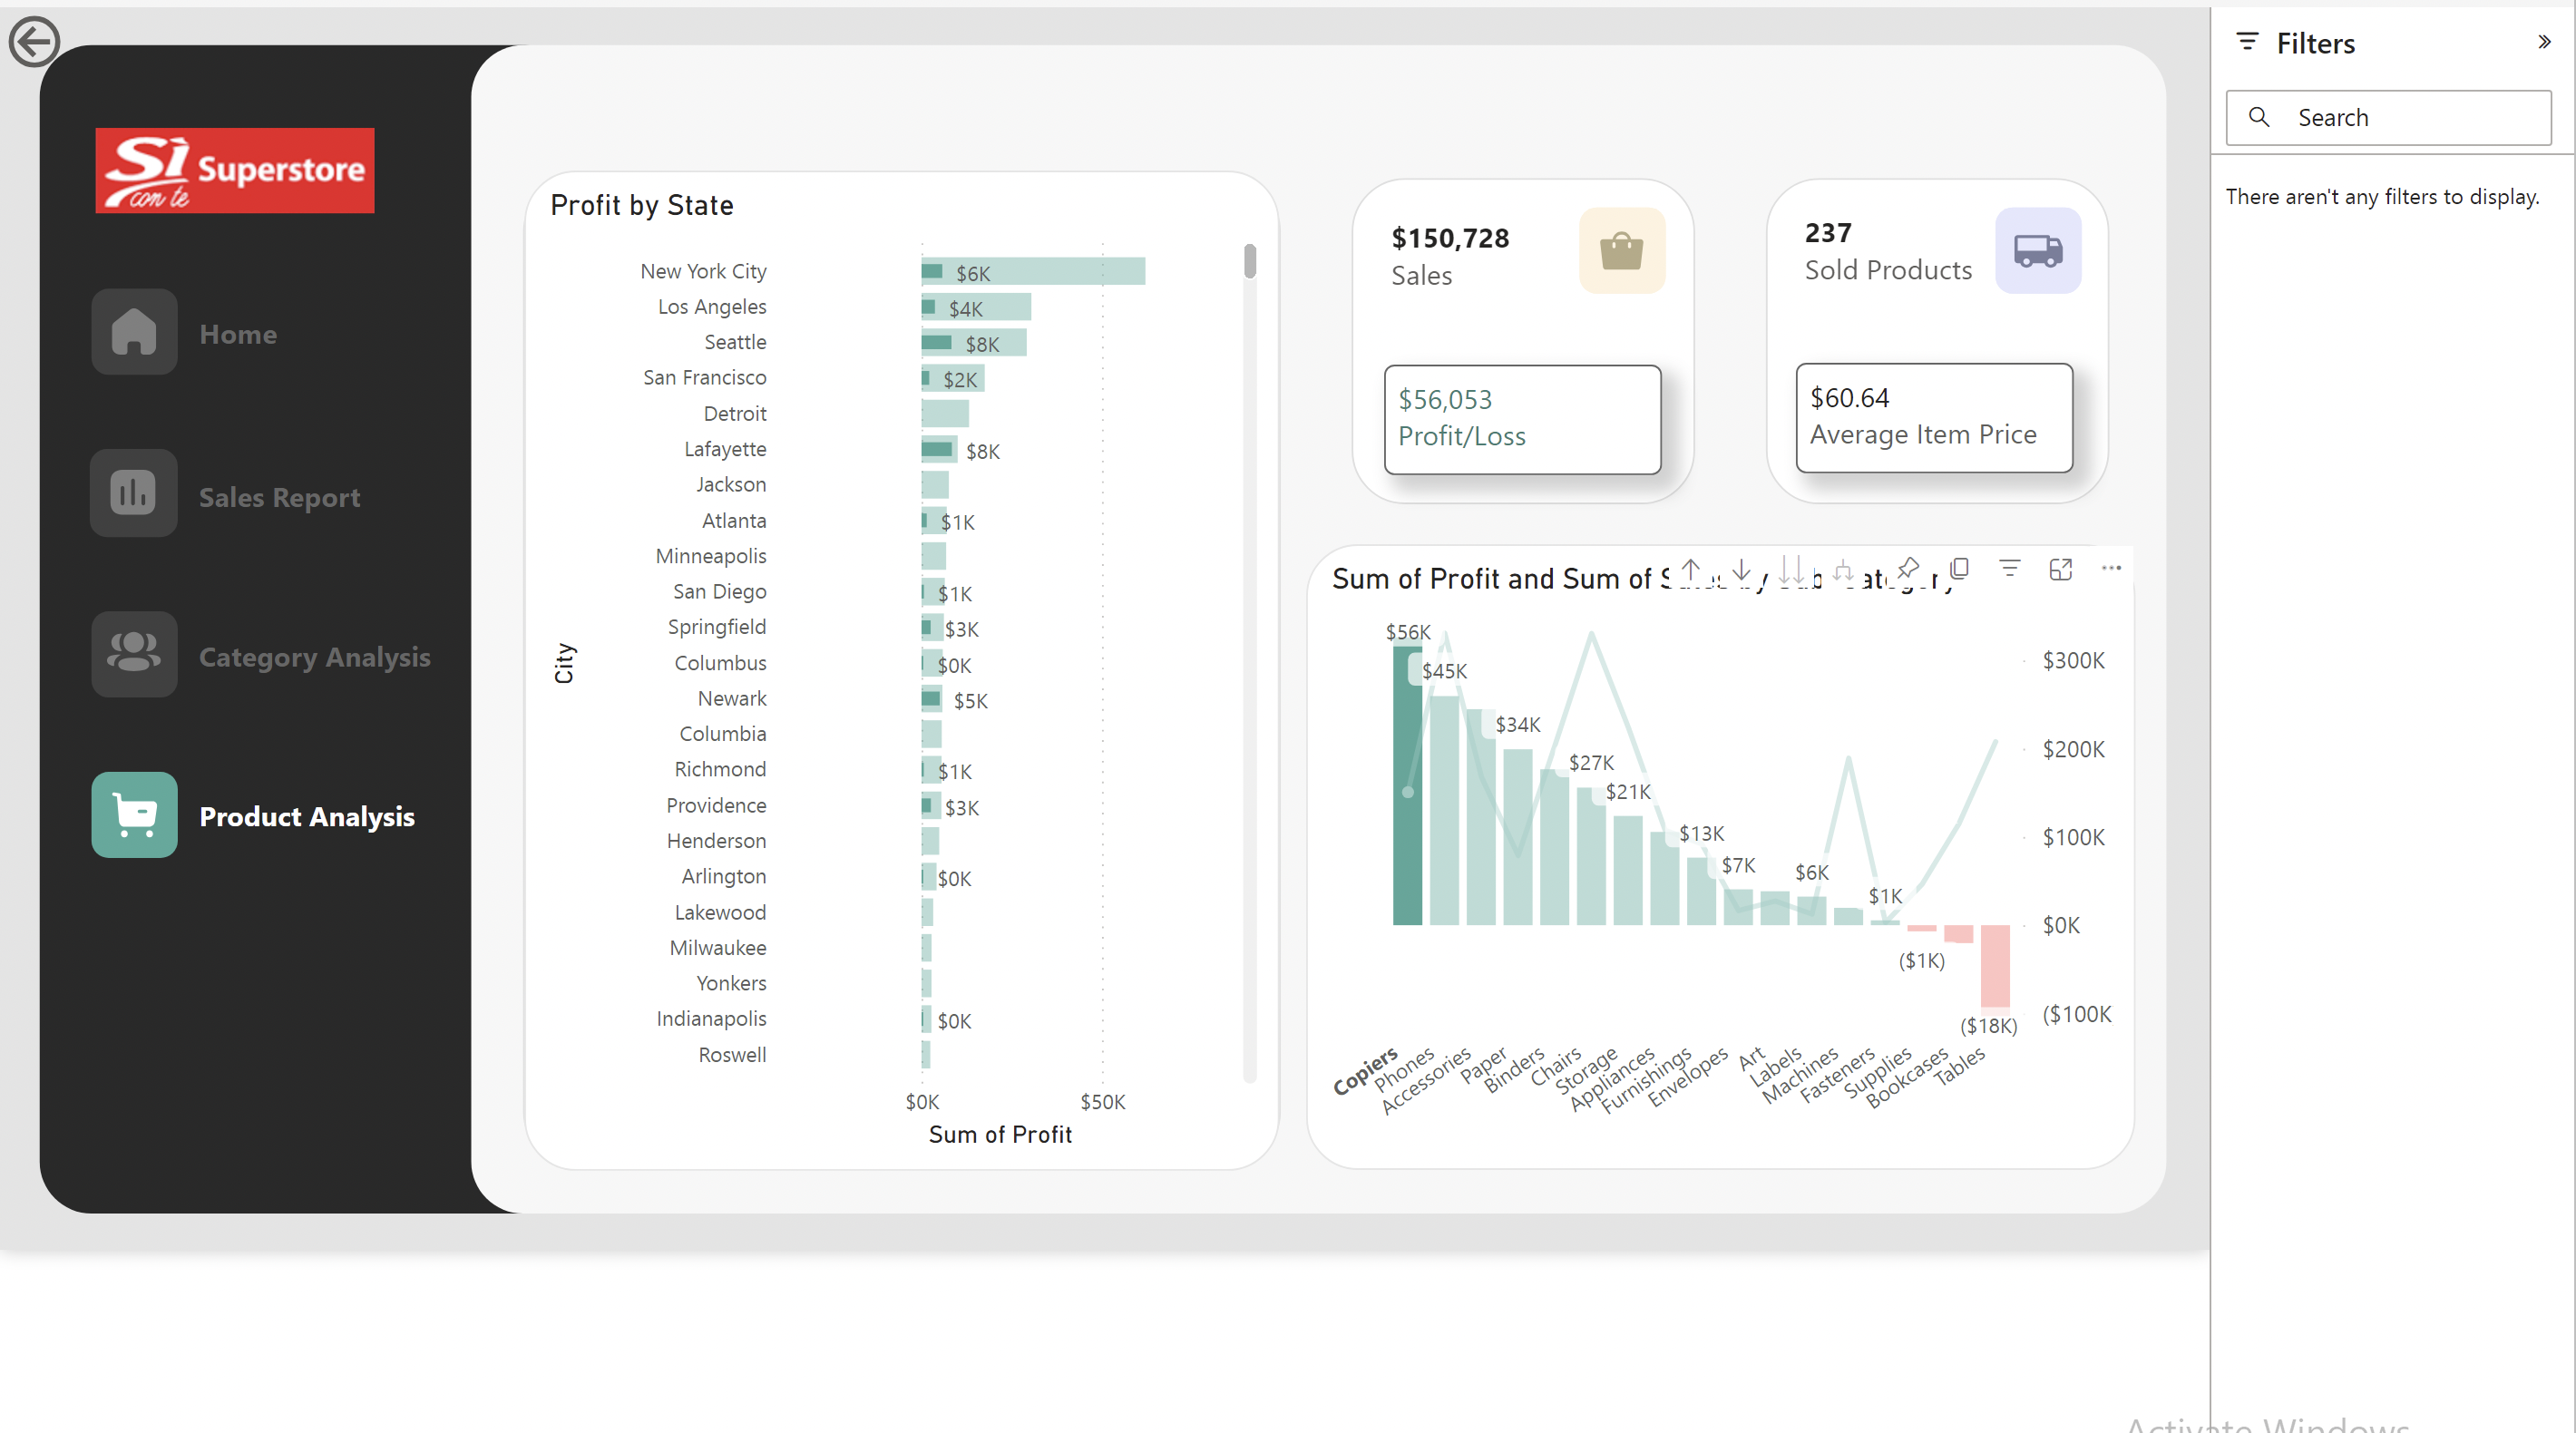

What the dashboard file says about the page in this screenshot:
{"tool":"powerbi","page":{"name":"Products Analysis","canvas":[1280,720],"ordinal":3},"visuals":[{"type":"group","id":"g1","title":"Group 1","box":[303.4,94.6,933.6,579.6],"z":0},{"type":"clusteredBarChart","title":"Profit by State","fields":{"Y":["Sum(SalesFact.Profit)"],"Category":["LocationDim.Country Hierarchy.City","LocationDim.Country Hierarchy.Postal Code"]},"box":[303.4,94.6,437.3,579.6],"z":0,"group":"g1"},{"type":"multiRowCard","fields":{"Values":["Sum(SalesFact.Quantity)"]},"box":[1040.8,113,136.8,52.5],"z":0,"group":"g3"},{"type":"multiRowCard","fields":{"Values":["Sum(SalesFact.Sales)"]},"box":[800.8,116.3,136.9,52.5],"z":0,"group":"g2"},{"type":"actionButton","title":"product","box":[111.5,447.5,149.1,40.5],"z":0,"group":"g4"},{"type":"actionButton","box":[0,0,100,40],"z":1000},{"type":"multiRowCard","fields":{"Values":["Sum(SalesFact.Profit)"]},"box":[802.3,206.4,160.9,63.9],"z":1000,"group":"g2"},{"type":"lineClusteredColumnComboChart","fields":{"Category":["CategoryDim.Category Hierarchy.Category","CategoryDim.Category Hierarchy.Sub-Category"],"Y":["Sum(SalesFact.Profit)"],"Y2":["Sum(SalesFact.Sales)"]},"box":[756.6,311,480.4,362.4],"z":1000,"group":"g1"},{"type":"actionButton","title":"category","box":[111.5,354.8,149.1,40.5],"z":1000,"group":"g4"},{"type":"multiRowCard","fields":{"Values":["SalesFact.Avg Item Price (after discount)"]},"box":[1040.4,206.5,160.9,63.9],"z":2000},{"type":"actionButton","title":"sales","box":[111.5,262.1,149.1,40.5],"z":2000,"group":"g4"},{"type":"actionButton","title":"home","box":[111.5,168,99.9,40.5],"z":3000,"group":"g4"},{"type":"group","id":"g2","title":"Sales","box":[800.8,116.3,162.4,154],"z":4000},{"type":"group","id":"g3","title":"products","box":[1040.8,113,136.8,52.5],"z":5000},{"type":"group","id":"g4","title":"navigation","box":[111.5,168,149.1,320],"z":6000},{"type":"image","box":[50.5,8,171.3,172.6],"z":7000}]}

Visuals, with their boxes on the page's 1280x720 design canvas (x1, y1, x2, y2). These are canvas units, not pixel positions in the 2576x1433 screenshot, which may show the page scaled, cropped or inside an application window:
"Group 1" group: bbox=(303, 95, 1237, 674)
"Profit by State" clusteredBarChart: bbox=(303, 95, 741, 674)
multiRowCard - Sum(SalesFact.Quantity): bbox=(1041, 113, 1178, 166)
multiRowCard - Sum(SalesFact.Sales): bbox=(801, 116, 938, 169)
"product" actionButton: bbox=(112, 448, 261, 488)
actionButton: bbox=(0, 0, 100, 40)
multiRowCard - Sum(SalesFact.Profit): bbox=(802, 206, 963, 270)
lineClusteredColumnComboChart - CategoryDim.Category Hierarchy.Category x CategoryDim.Category Hierarchy.Sub-Category: bbox=(757, 311, 1237, 673)
"category" actionButton: bbox=(112, 355, 261, 395)
multiRowCard - SalesFact.Avg Item Price (after discount): bbox=(1040, 206, 1201, 270)
"sales" actionButton: bbox=(112, 262, 261, 303)
"home" actionButton: bbox=(112, 168, 211, 208)
"Sales" group: bbox=(801, 116, 963, 270)
"products" group: bbox=(1041, 113, 1178, 166)
"navigation" group: bbox=(112, 168, 261, 488)
image: bbox=(50, 8, 222, 181)
